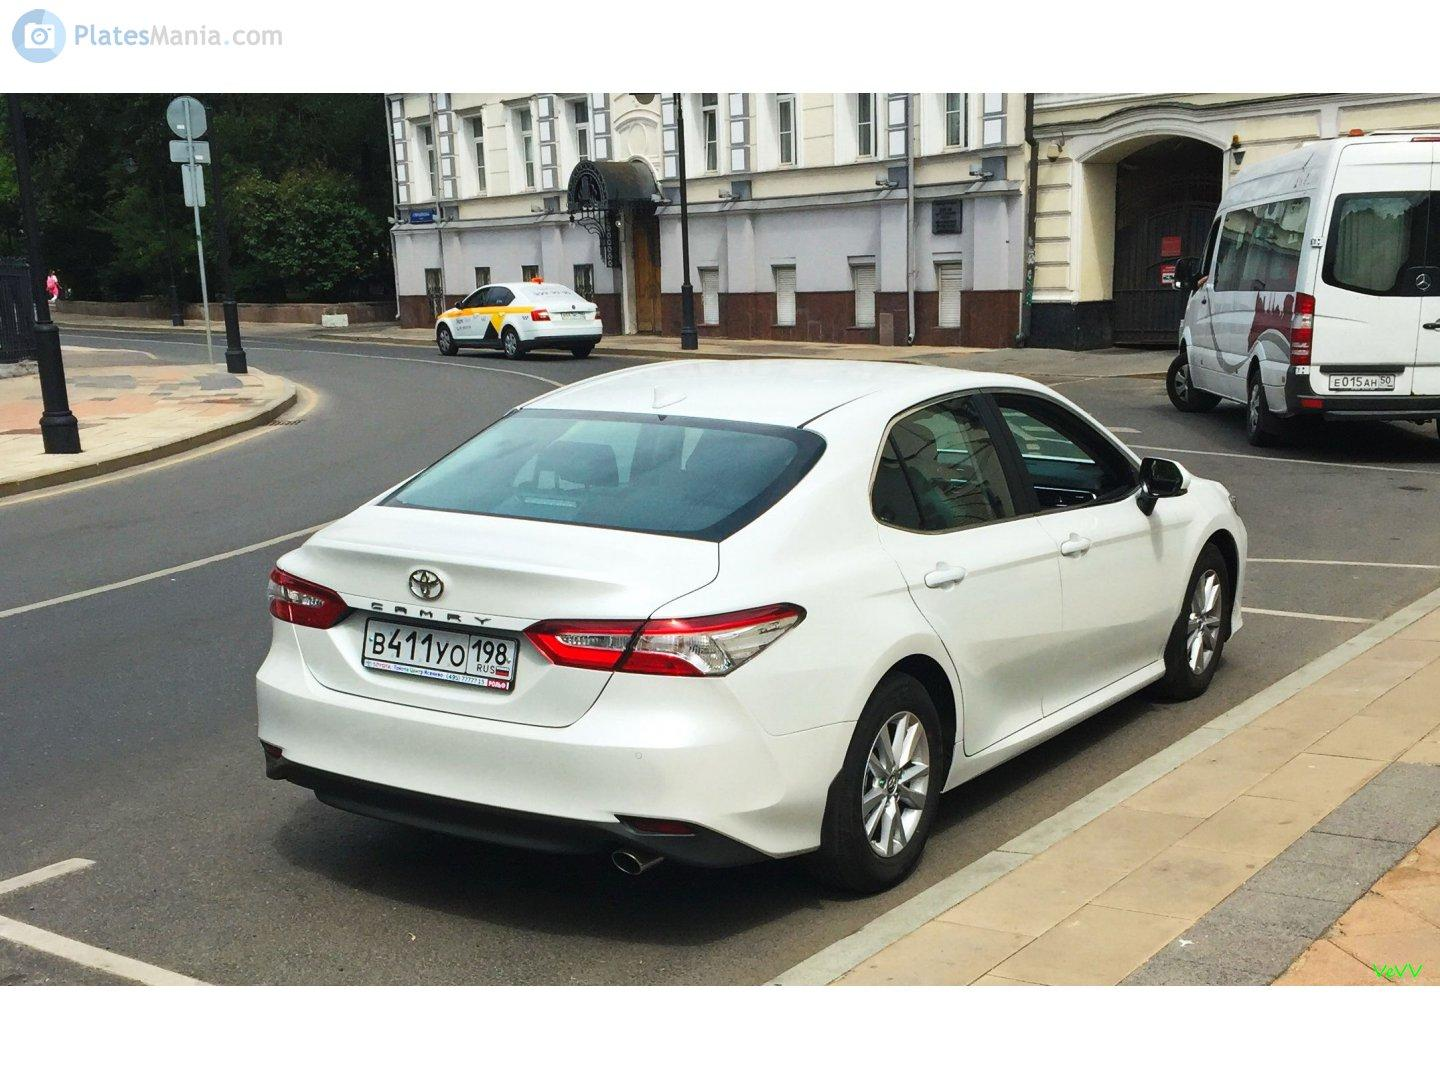license-plateSW: (361, 624, 514, 682), (1328, 375, 1392, 390)
